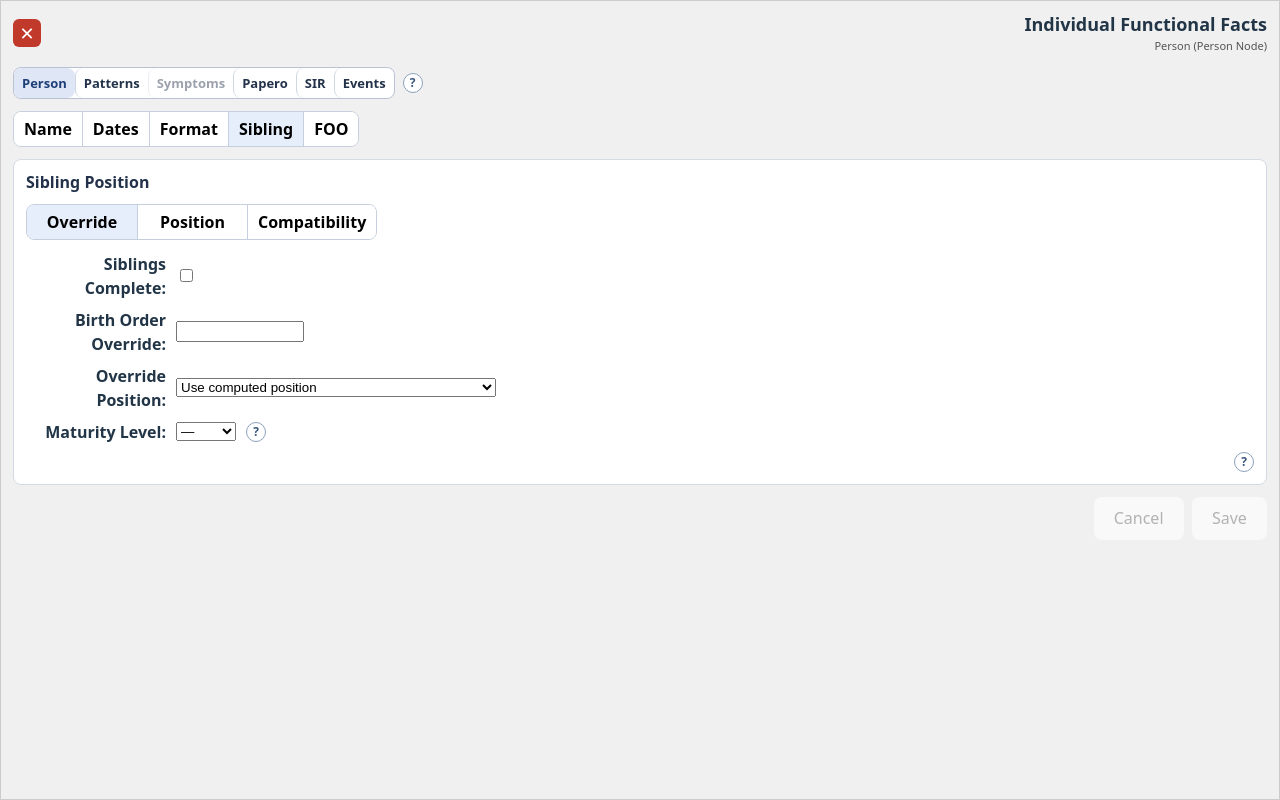
PropertiesPanel › shows sibling override help text
The image size is (1280, 800).
Click the button named "Sibling override help": (1244, 462) [1234,452,1254,472]
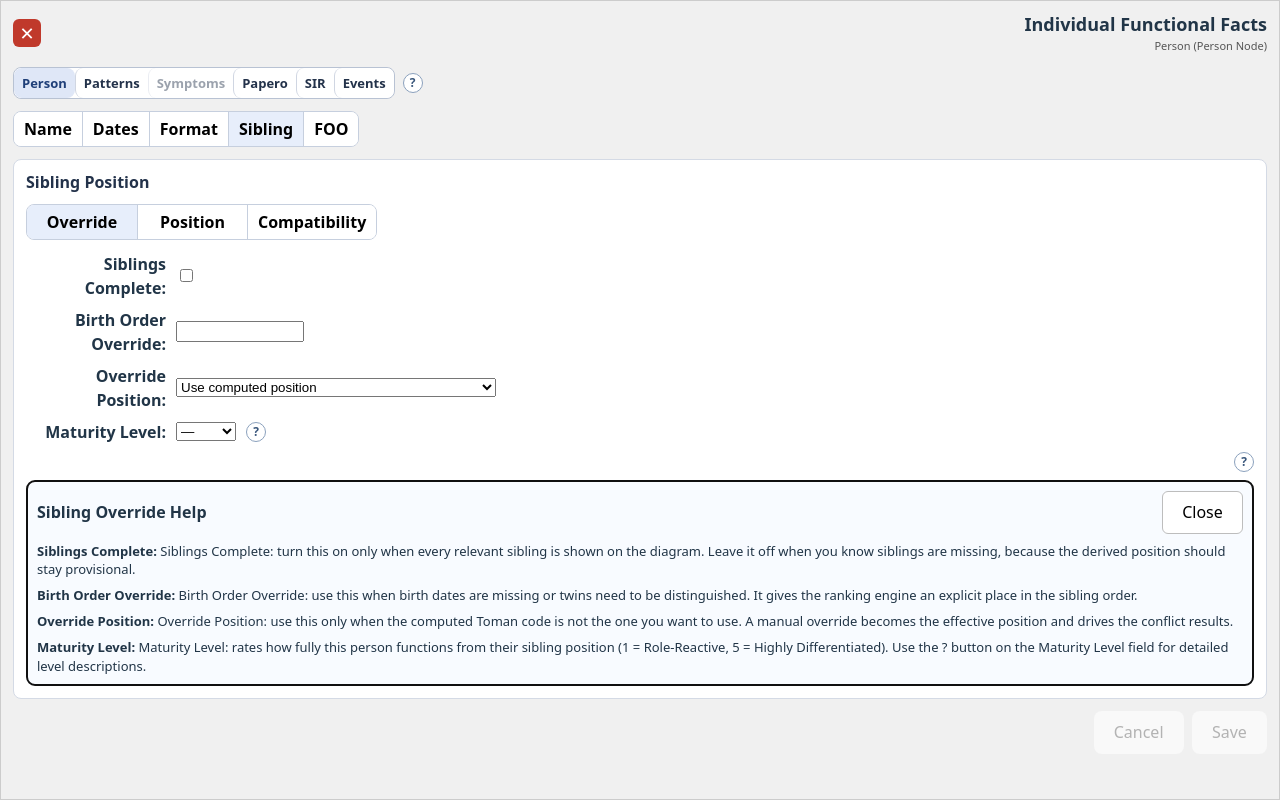
Result: the text "Siblings Complete:" is shown at [37,542,157,560]
Result: the text "Birth Order Override:" is shown at [37,586,175,604]
Result: the text "Override Position:" is shown at [37,612,154,630]
